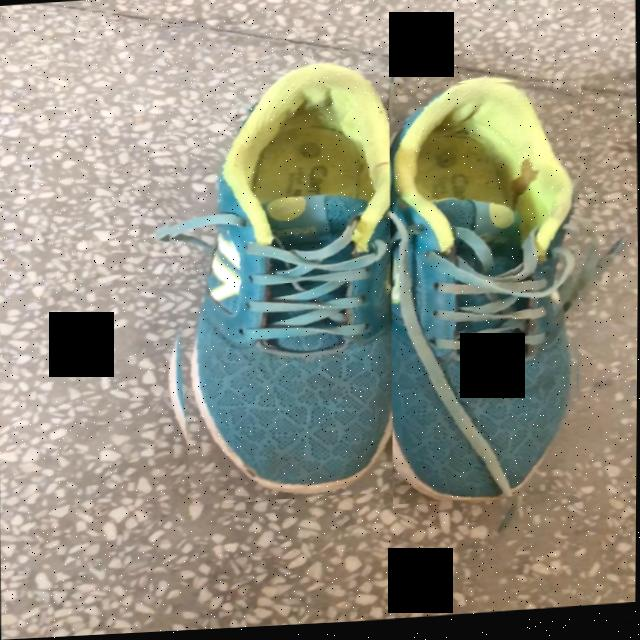shoe: (167, 69, 395, 501), (391, 87, 580, 506)
